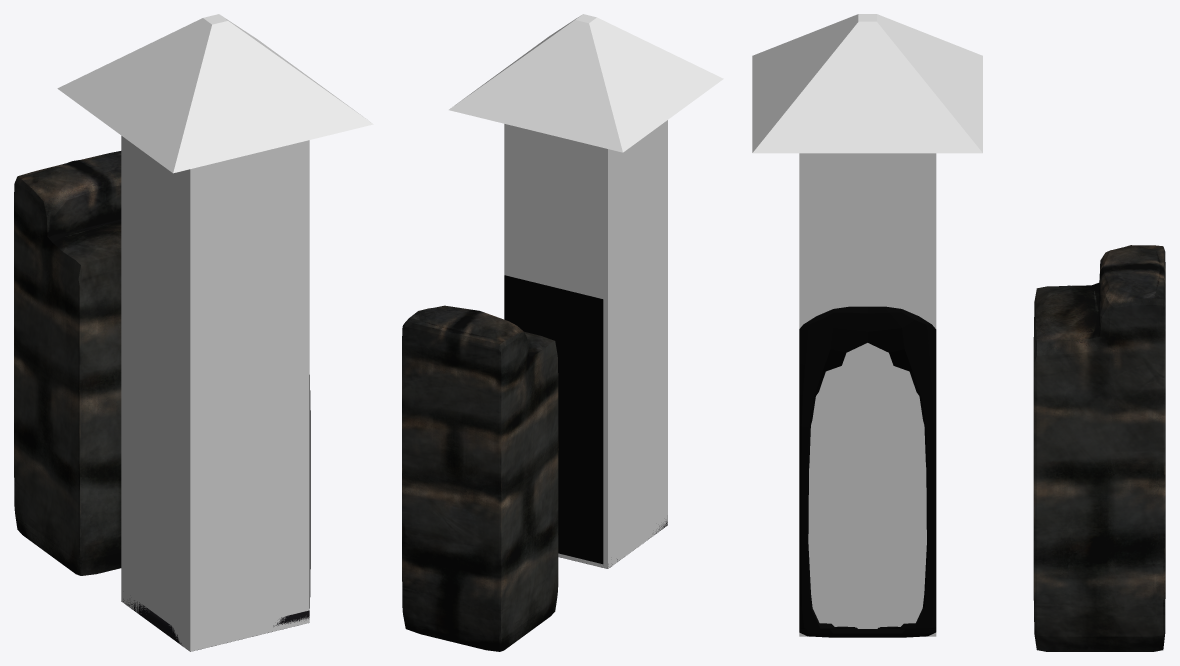
3 views of the same model, side by side, from view 1: azimuth 30°, elevation 25°; view 2: azimuth 150°, elevation 25°; view 3: azimuth 270°, elevation 25° (orthographic). The views are drawn at different scales.
Visible parts, largest first — view 1: CORNER, WALL, FLOOR; view 2: CORNER, WALL, DOOR; view 3: CORNER, WALL, DOOR.
Boxes of the visible parts, x1,y1,x2,y2 form: CORNER: (57, 14, 373, 651); WALL: (14, 151, 121, 575); FLOOR: (121, 599, 309, 651); CORNER: (449, 14, 723, 568); WALL: (402, 305, 558, 651); DOOR: (504, 275, 603, 564); CORNER: (752, 14, 982, 636); WALL: (1033, 245, 1165, 651); DOOR: (799, 306, 936, 637).
Bounding box in the file's own units: 168 × 489 × 302.
3 materials, 3 textured.
